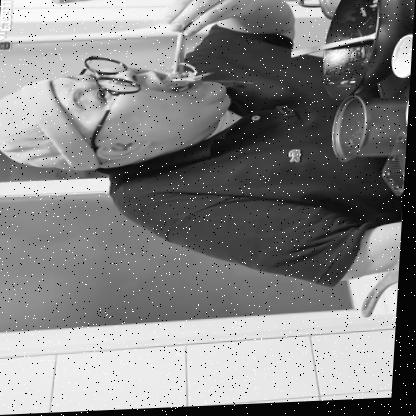streamer: (0, 0, 416, 303)
